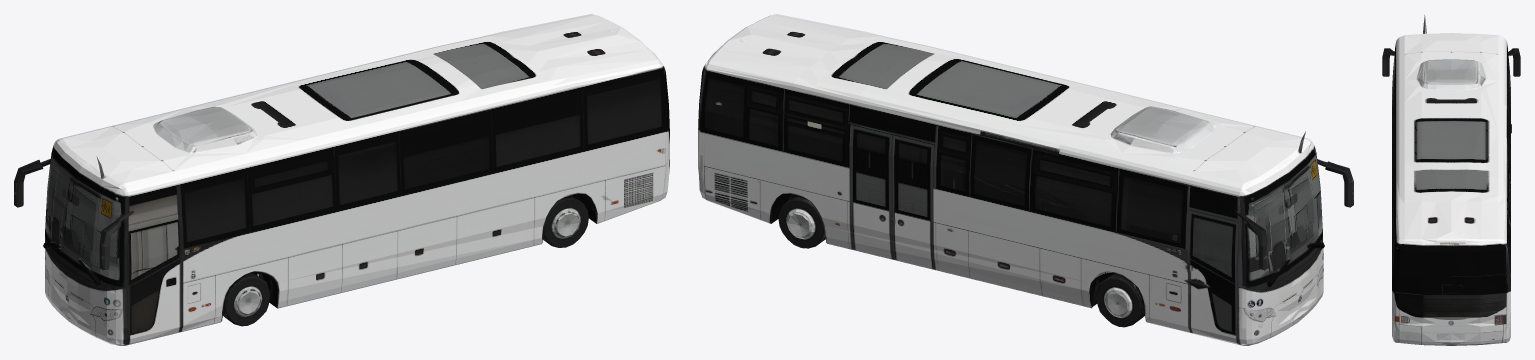
The model's file is bus_city.glb.
3 renders of one model, left to right at view 1: azimuth 30°, elevation 25°; view 2: azimuth 150°, elevation 25°; view 3: azimuth 270°, elevation 25°, orthographic. The views are drawn at different scales.
Bounding box in the file's own units: 1.89 × 0.5871 × 0.5088.
Materials: 1 (1 with a texture image).
